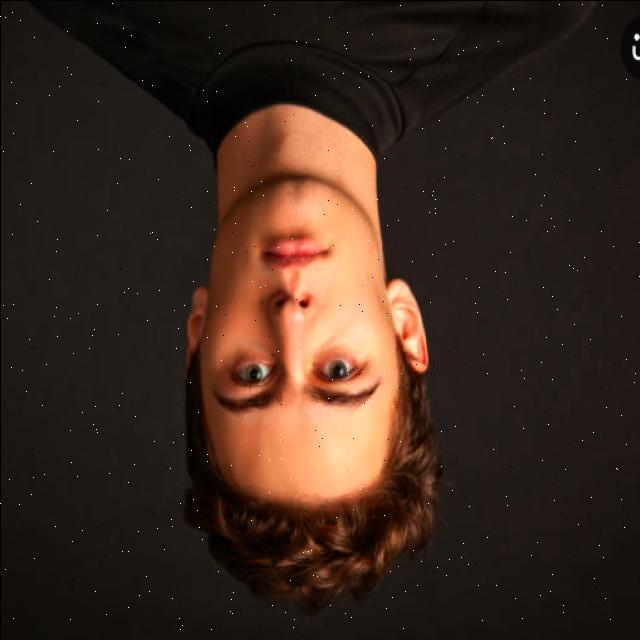face_no_mask: (185, 175, 431, 513)
